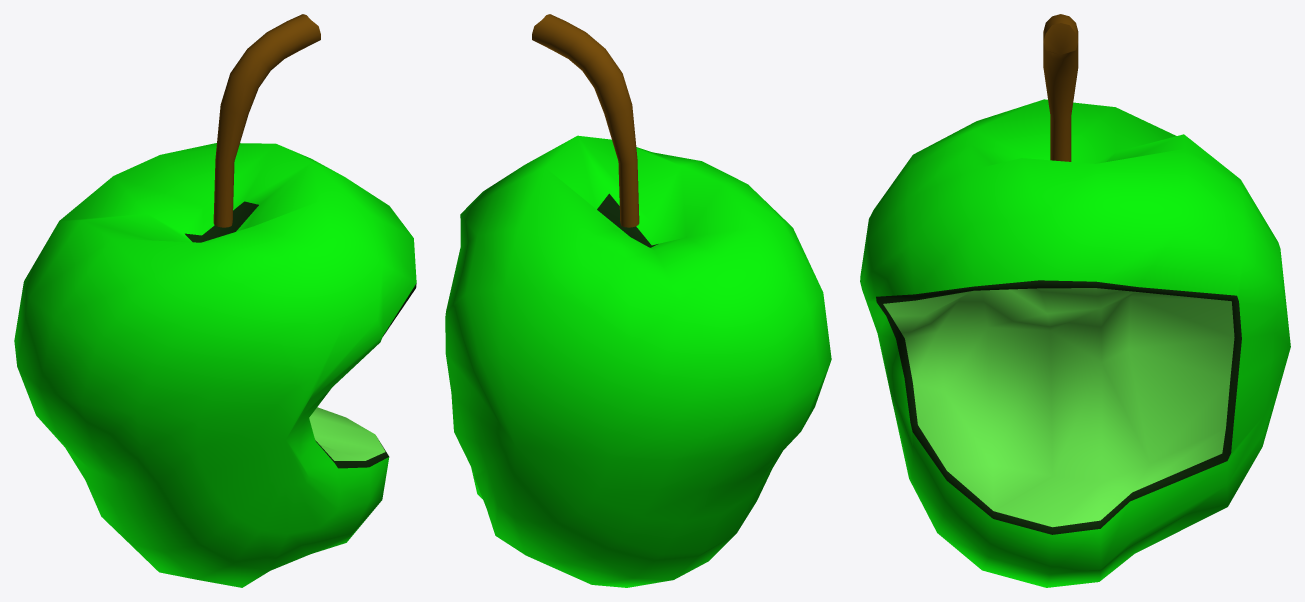
File: APPLE CORE01.FBX
3 renders of one model, left to right at view 1: azimuth 30°, elevation 25°; view 2: azimuth 150°, elevation 25°; view 3: azimuth 270°, elevation 25°, orthographic. The views are drawn at different scales.
Parts seen in each view (by area): view 1: Sphere001, Line001; view 2: Sphere001, Line001; view 3: Sphere001, Line001.
Part boxes in pixels (x1,y1,x2,y2): Sphere001: [14, 143, 416, 587]; Line001: [213, 14, 320, 227]; Sphere001: [445, 135, 831, 587]; Line001: [532, 14, 639, 227]; Sphere001: [860, 99, 1290, 587]; Line001: [1043, 14, 1078, 161].
Size of the model in its own units: 105 by 155 by 104.
